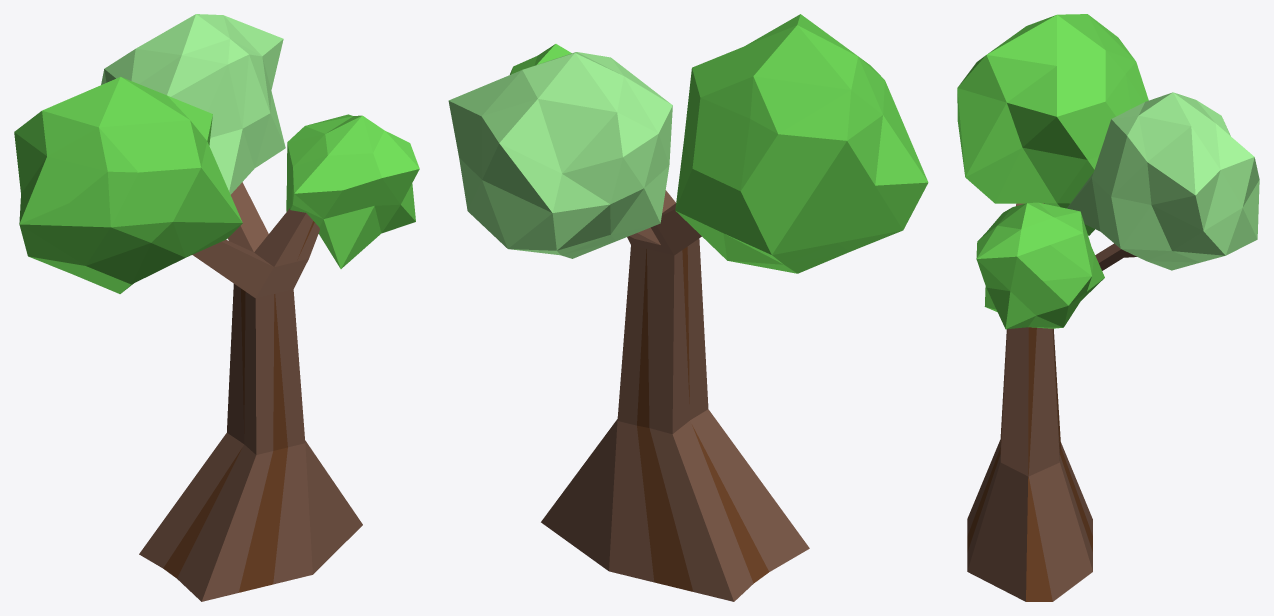
The model's file is TreeModel_2.fbx.
3 views of the same model, side by side, from view 1: azimuth 30°, elevation 25°; view 2: azimuth 150°, elevation 25°; view 3: azimuth 270°, elevation 25° (orthographic). The views are drawn at different scales.
Parts seen in each view (by area): view 1: Icosphere.002; view 2: Icosphere.002; view 3: Icosphere.002.
Boxes of the visible parts, x1,y1,x2,y2 form: Icosphere.002: [14, 14, 419, 601]; Icosphere.002: [448, 14, 928, 601]; Icosphere.002: [957, 14, 1259, 601].
Bounding box in the file's own units: 679 × 856 × 481.
